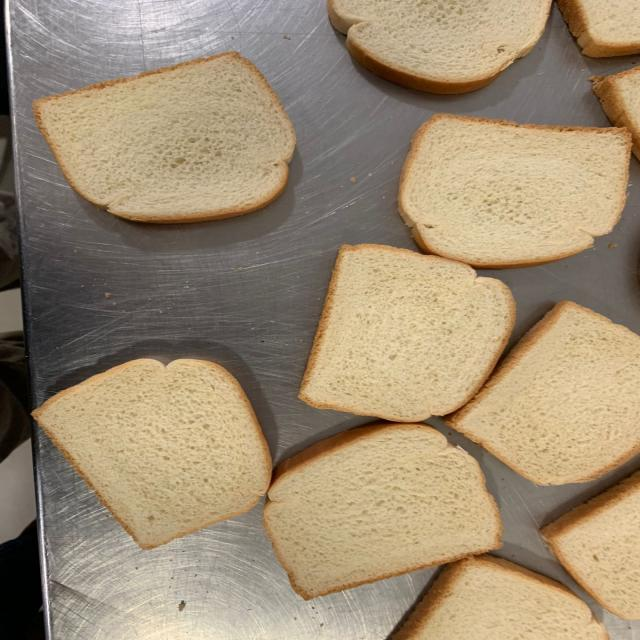pan: (32, 359, 272, 550), (34, 53, 296, 224), (263, 423, 504, 600), (296, 243, 518, 423), (398, 115, 631, 269), (448, 301, 640, 486)
